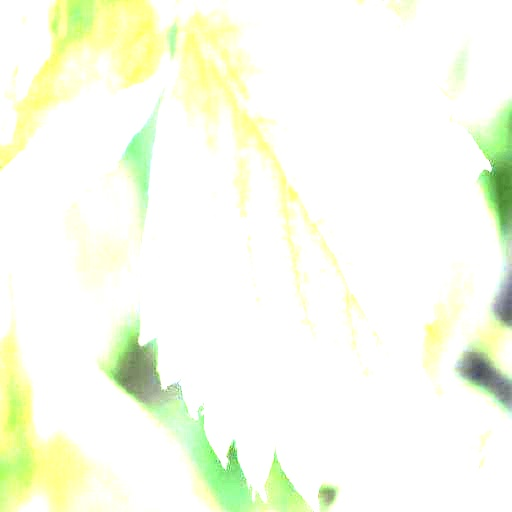Powdery Mildew Leaf: (139, 0, 492, 511), (0, 0, 167, 280), (353, 403, 511, 511)
